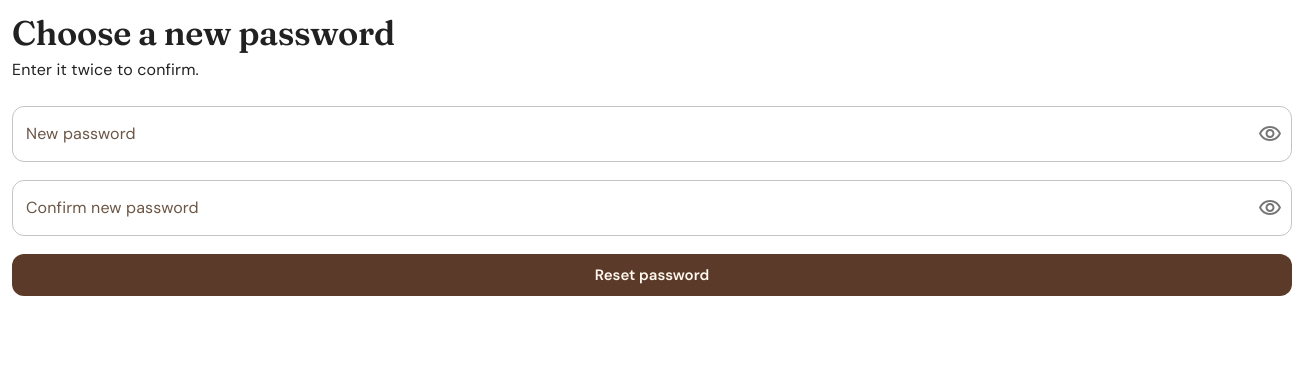
ResetPasswordForm › shows invalid-link message on a 400 response
Type "brew-new-pass-0001" into the password field labelled "New password" at (627, 134), box [12,106,1242,162]
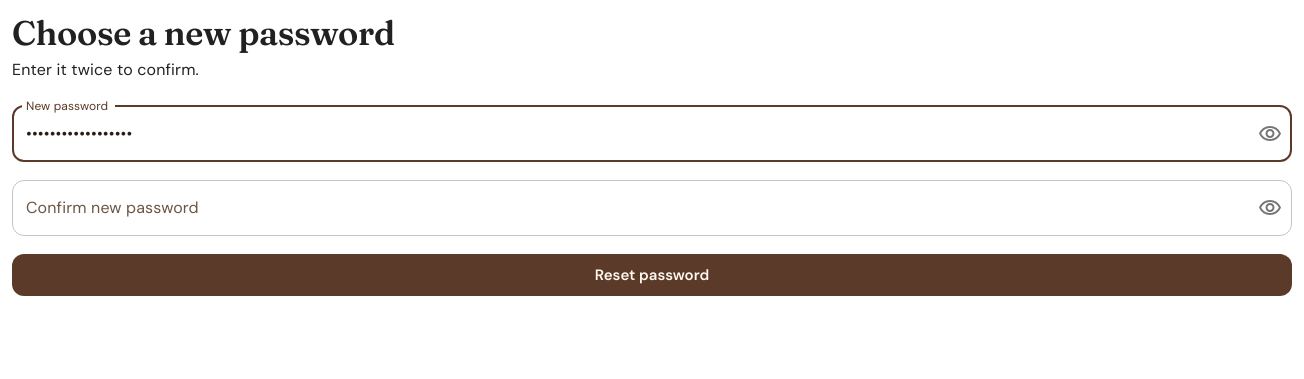
Type "brew-new-pass-0001" into the password field labelled "Confirm new password" at (627, 208), box [12,180,1242,236]
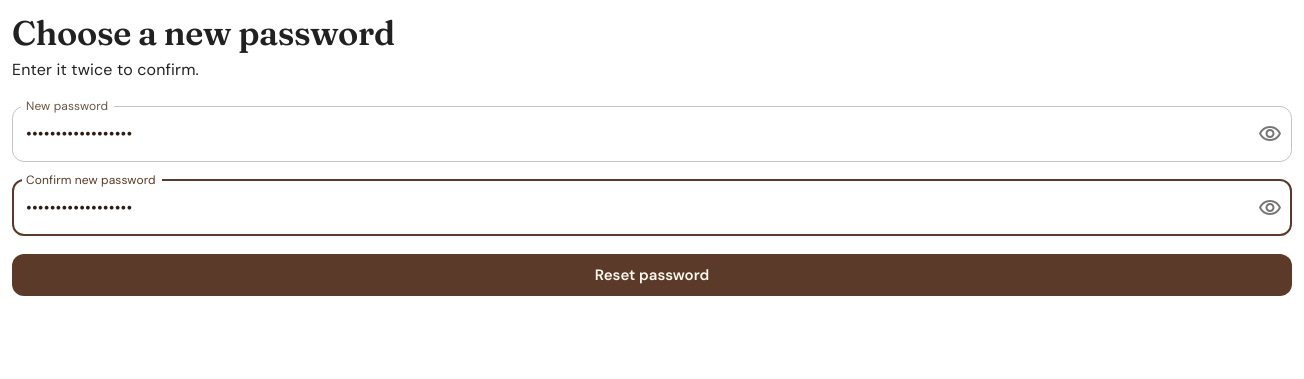
Click the button "Reset password" at (652, 275), box [12,254,1292,296]
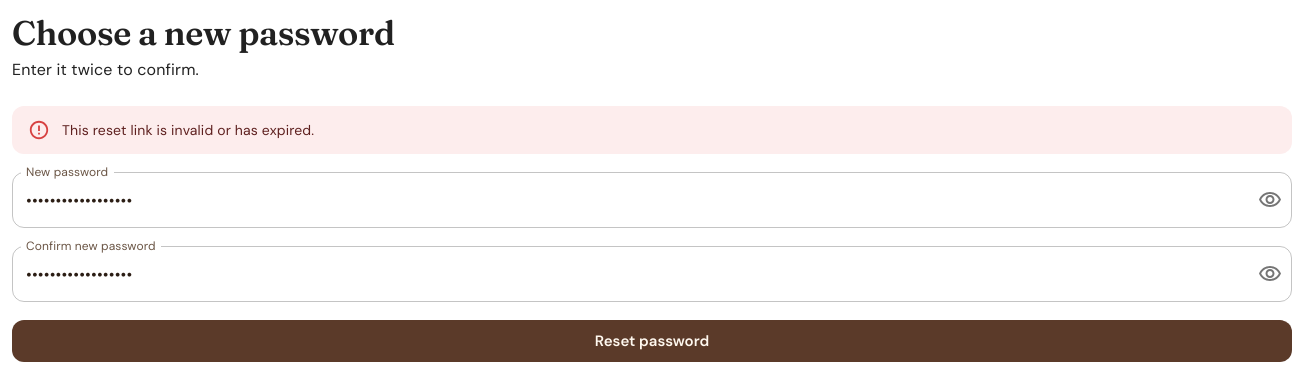
Expected: the text "This reset link is invalid or has expired." is shown, [62,121,314,139]
